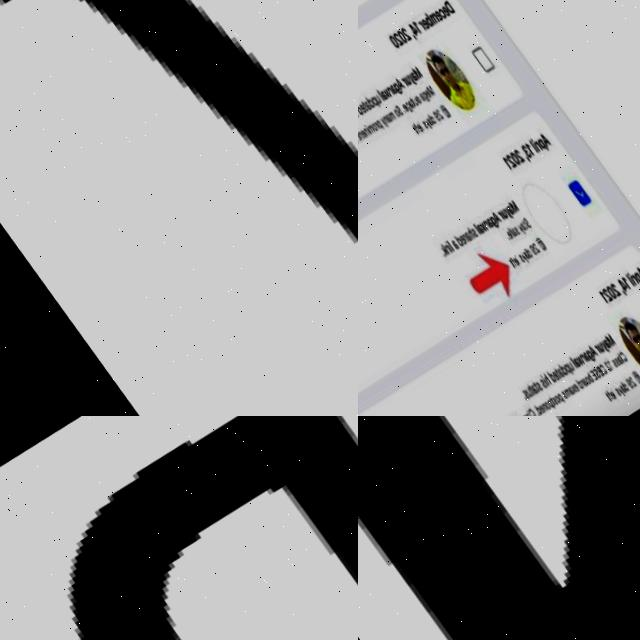0: (391, 24, 404, 39), (382, 29, 395, 44), (595, 277, 608, 292), (501, 145, 514, 159), (498, 410, 508, 416)
1: (518, 135, 529, 149), (494, 150, 505, 164), (588, 282, 599, 296), (407, 15, 418, 28), (611, 268, 622, 281), (501, 409, 511, 416)
2: (395, 22, 408, 37), (386, 26, 399, 41), (497, 147, 510, 162), (505, 142, 518, 156), (599, 275, 612, 289), (591, 280, 604, 294), (428, 103, 438, 115), (615, 368, 625, 380), (522, 236, 532, 247)
3: (512, 138, 525, 153)
4: (402, 17, 415, 32), (606, 270, 619, 285)
9: (425, 105, 435, 117), (519, 237, 529, 249), (612, 370, 622, 381)
I: (78, 0, 358, 249)
N: (358, 416, 640, 640)
R: (0, 416, 358, 640)
